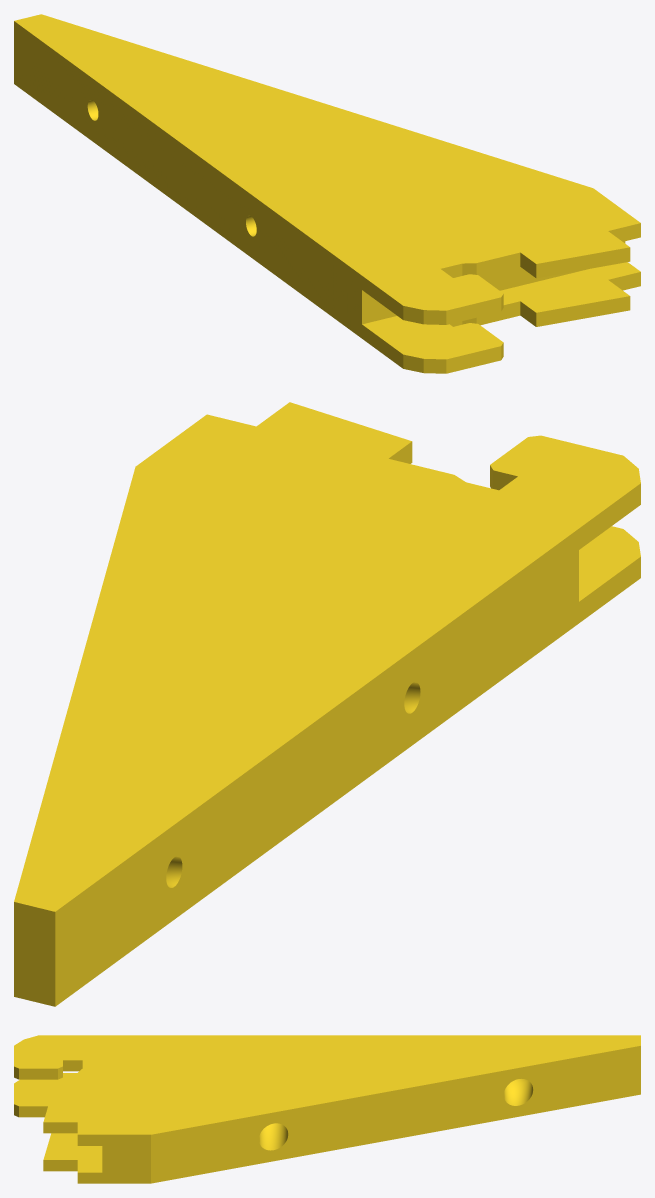
File: openscad_twin-slot-shelf-bracket.glb
3 views of the same model, one above another, from view 1: azimuth 30°, elevation 25°; view 2: azimuth 150°, elevation 25°; view 3: azimuth 270°, elevation 25° (orthographic). The views are drawn at different scales.
Visible parts, largest first — view 1: object; view 2: object; view 3: object.
Part boxes in pixels (x1,y1,x2,y2): object: (14,14,640,373); object: (14,402,640,1006); object: (14,1035,640,1183).
Size of the model in its own units: 48 by 11 by 128.
